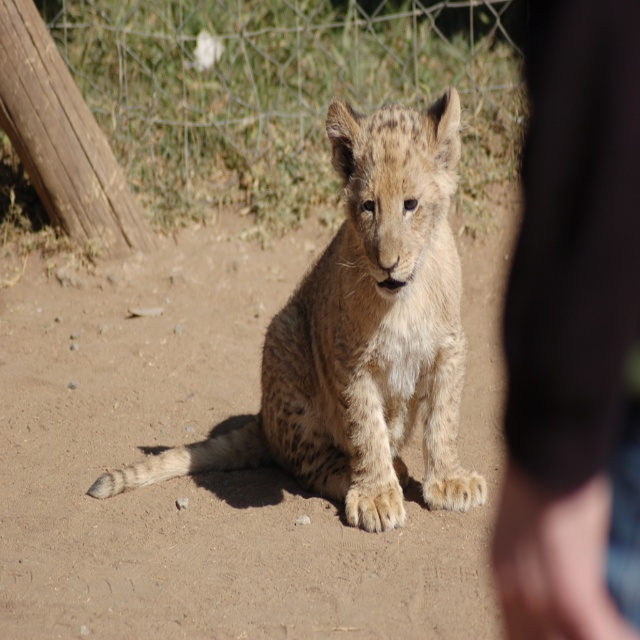Lion: (86, 86, 486, 532)
